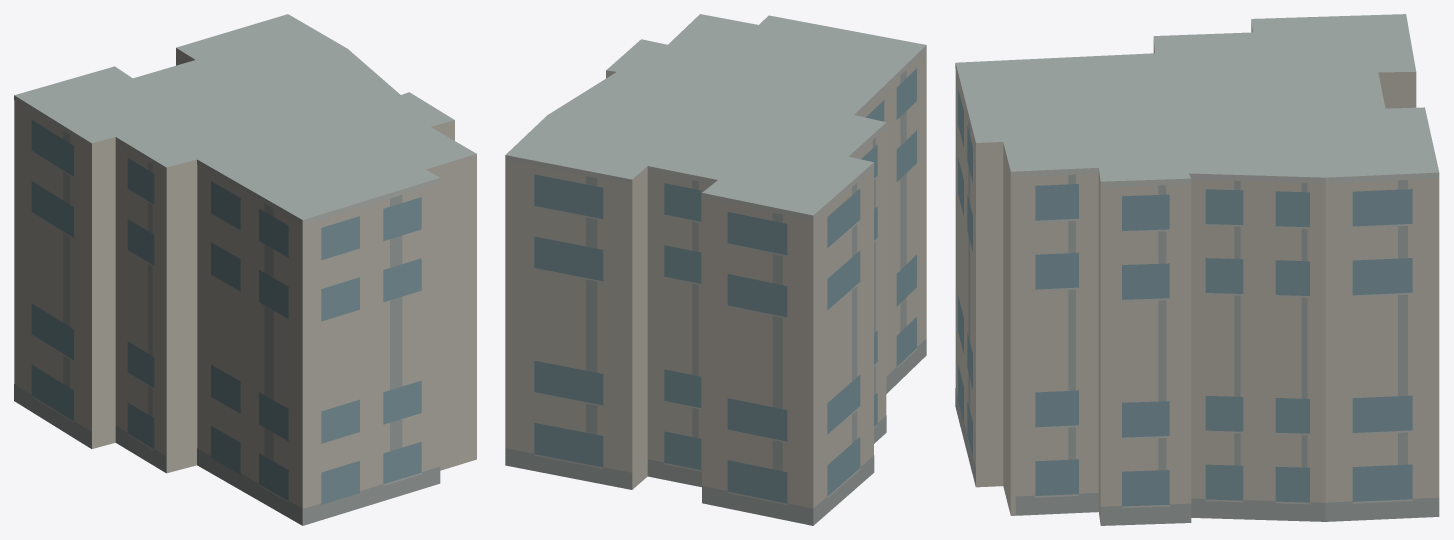
The model's file is survey-upis-32577727.glb.
3 renders of one model, left to right at view 1: azimuth 30°, elevation 25°; view 2: azimuth 150°, elevation 25°; view 3: azimuth 270°, elevation 25°, orthographic. The views are drawn at different scales.
Parts seen in each view (by area): view 1: survey-upis-32577727.tmp; view 2: survey-upis-32577727.tmp; view 3: survey-upis-32577727.tmp.
Part boxes in pixels (x1,y1,x2,y2): survey-upis-32577727.tmp: (14,14,476,525); survey-upis-32577727.tmp: (505,14,926,525); survey-upis-32577727.tmp: (955,14,1439,525).
Size of the model in its own units: 14.84 by 14.2 by 18.1.
